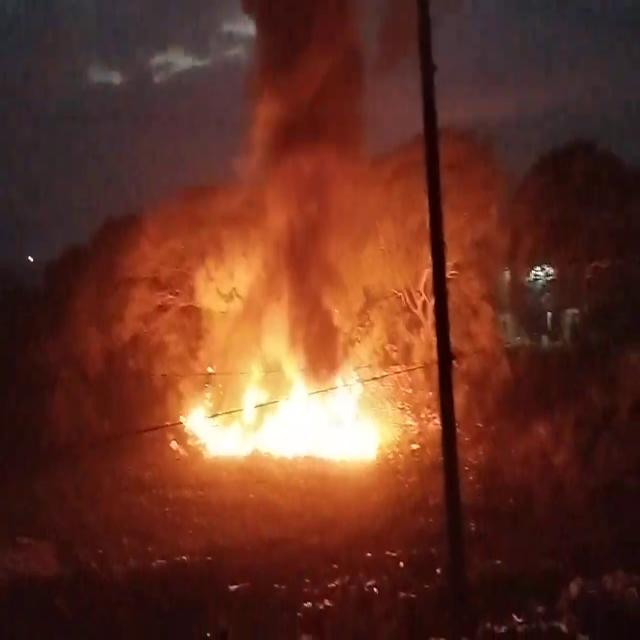Fire: (164, 333, 420, 479)
Smoke: (152, 1, 510, 322)
